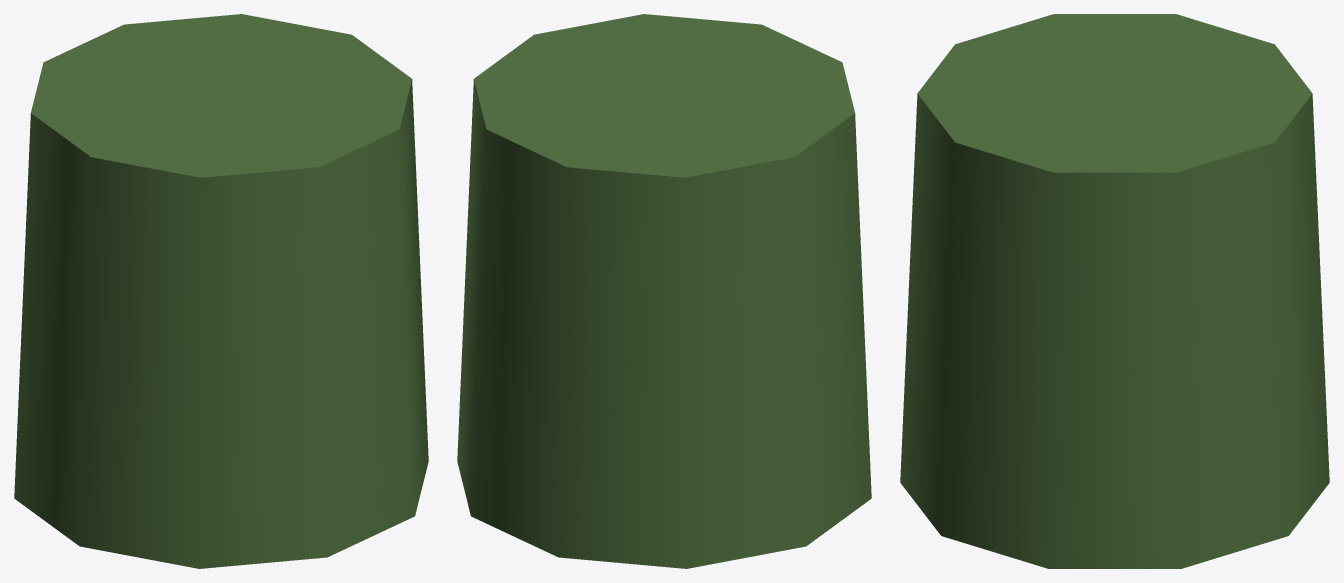
Rendered from stem-herb.glb.
3 views of the same model, side by side, from view 1: azimuth 30°, elevation 25°; view 2: azimuth 150°, elevation 25°; view 3: azimuth 270°, elevation 25° (orthographic).
Parts seen in each view (by area): view 1: surface; view 2: surface; view 3: surface.
Part boxes in pixels (left/top/right/bottom): surface: left=14, top=14, right=428, bottom=568; surface: left=457, top=14, right=871, bottom=568; surface: left=900, top=14, right=1329, bottom=568.
Bounding box in the file's own units: 0.9511 × 1 × 1.
